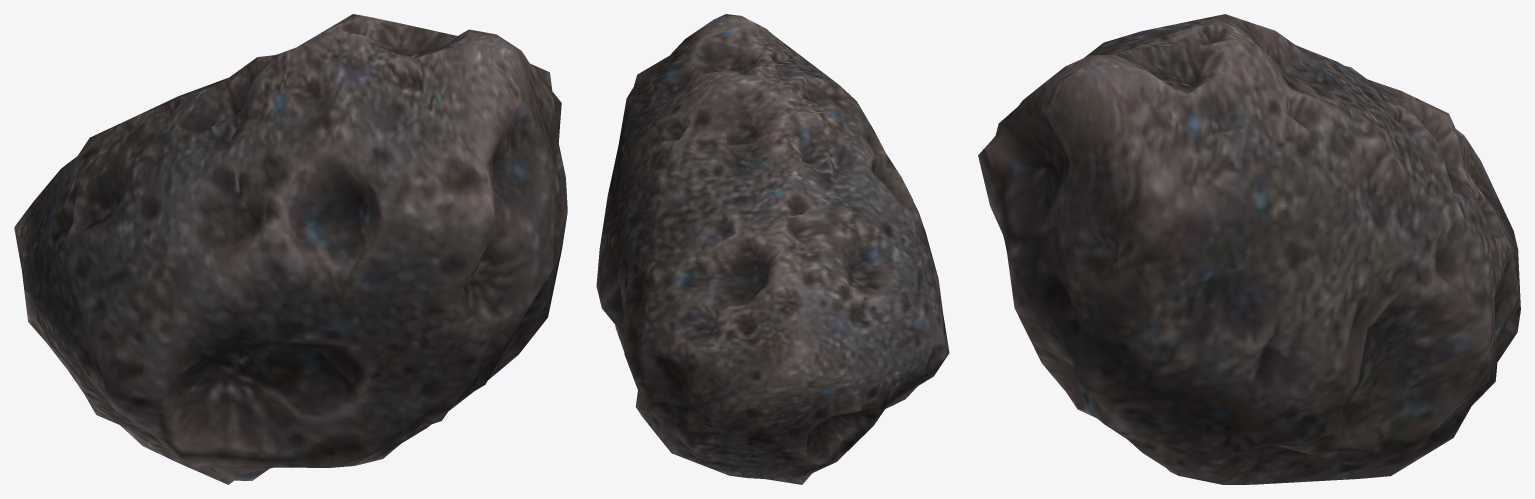
Rendered from stone-premium-v2.glb.
The picture shows the model from 3 angles, left to right: view 1: azimuth 30°, elevation 25°; view 2: azimuth 150°, elevation 25°; view 3: azimuth 270°, elevation 25°; orthographic projection. The views are drawn at different scales.
Visible parts, largest first — view 1: stone; view 2: stone; view 3: stone.
Part boxes in pixels (x1=…): stone: x1=14, y1=14, x2=567, y2=484; stone: x1=596, y1=14, x2=949, y2=484; stone: x1=978, y1=14, x2=1520, y2=484.
Bounding box in the file's own units: 1.5 × 1.54 × 1.55.
Materials: 1 (1 with a texture image).
